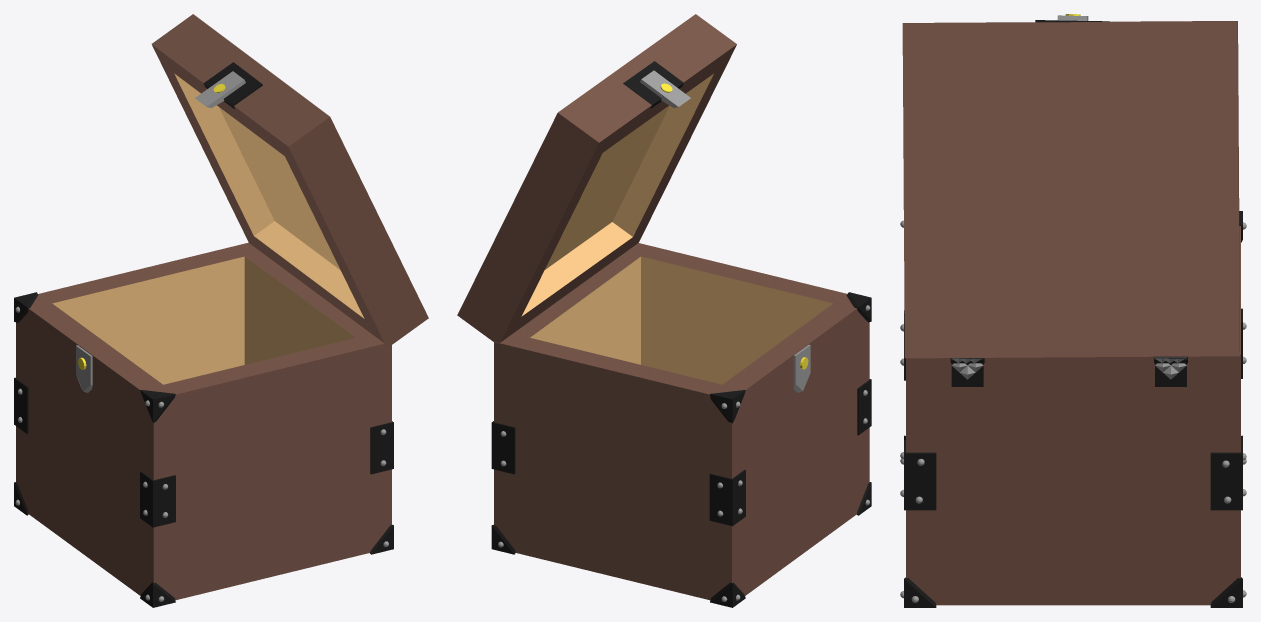
3 renders of one model, left to right at view 1: azimuth 30°, elevation 25°; view 2: azimuth 150°, elevation 25°; view 3: azimuth 270°, elevation 25°, orthographic. The views are drawn at different scales.
Parts seen in each view (by area): view 1: mesh_1109262412, mesh_872431378, mesh_1910993424, mesh_1406827508, mesh_2059148875, mesh_898147433, mesh_828073225, mesh_2137212290, mesh_1810104075, mesh_1061141336, mesh_1219462787, mesh_2065113163 (+5 smaller); view 2: mesh_1910993424, mesh_872431378, mesh_1109262412, mesh_1406827508, mesh_2059148875, mesh_898147433, mesh_2137212290, mesh_828073225, mesh_1810104075, mesh_1061141336, mesh_944599545, mesh_1357402358 (+5 smaller); view 3: mesh_1406827508, mesh_2059148875, mesh_898147433, mesh_1357402358, mesh_2065113163, group_728099528, group_649642684, mesh_1675916652, mesh_759135475.
Boxes of the visible parts, x1,y1,x2,y2 form: mesh_1109262412: [163, 338, 368, 575]; mesh_872431378: [16, 294, 176, 581]; mesh_1910993424: [39, 247, 244, 384]; mesh_1406827508: [172, 14, 428, 332]; mesh_2059148875: [231, 242, 391, 528]; mesh_898147433: [16, 481, 391, 600]; mesh_828073225: [275, 122, 407, 348]; mesh_2137212290: [151, 29, 274, 251]; mesh_1810104075: [254, 221, 371, 333]; mesh_1061141336: [165, 39, 295, 155]; mesh_1219462787: [140, 471, 175, 527]; mesh_2065113163: [370, 421, 393, 474]; mesh_1910993424: [516, 338, 721, 575]; mesh_872431378: [709, 294, 869, 581]; mesh_1109262412: [641, 247, 846, 384]; mesh_1406827508: [457, 14, 715, 330]; mesh_2059148875: [494, 243, 653, 528]; mesh_898147433: [494, 481, 869, 600]; mesh_2137212290: [478, 118, 612, 342]; mesh_828073225: [612, 29, 736, 251]; mesh_1810104075: [513, 222, 632, 332]; mesh_1061141336: [592, 38, 723, 152]; mesh_944599545: [709, 470, 745, 526]; mesh_1357402358: [491, 421, 515, 474]; mesh_1406827508: [902, 21, 1239, 358]; mesh_2059148875: [906, 341, 1240, 576]; mesh_898147433: [906, 576, 1240, 605]; mesh_1357402358: [1210, 440, 1242, 510]; mesh_2065113163: [904, 440, 936, 510]; group_728099528: [951, 363, 983, 386]; group_649642684: [1155, 363, 1186, 386]; mesh_1675916652: [1210, 577, 1242, 607]; mesh_759135475: [904, 577, 936, 607].
Bounding box in the file's own units: 208 × 320 × 183.
